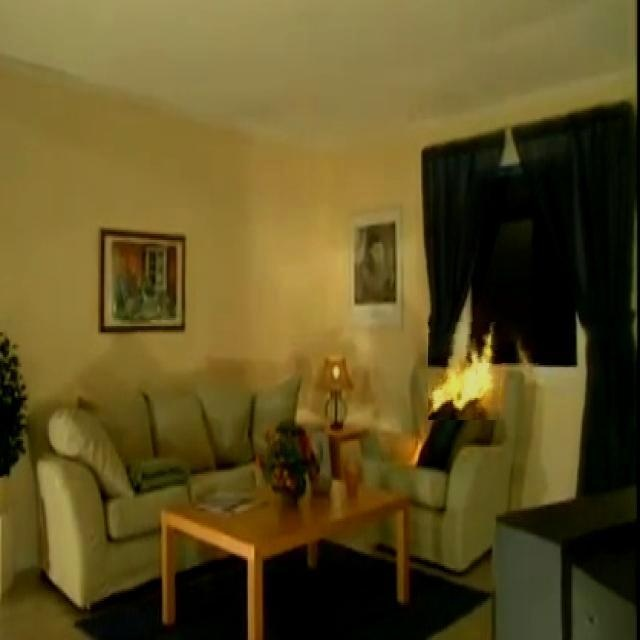fire: (430, 336, 499, 412)
